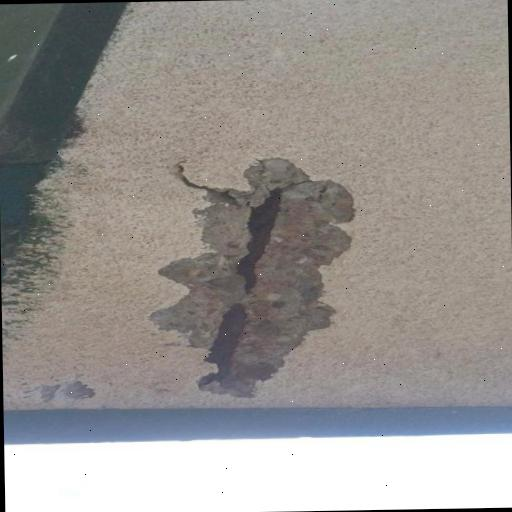spalling: (152, 153, 355, 393), (160, 147, 242, 203)
